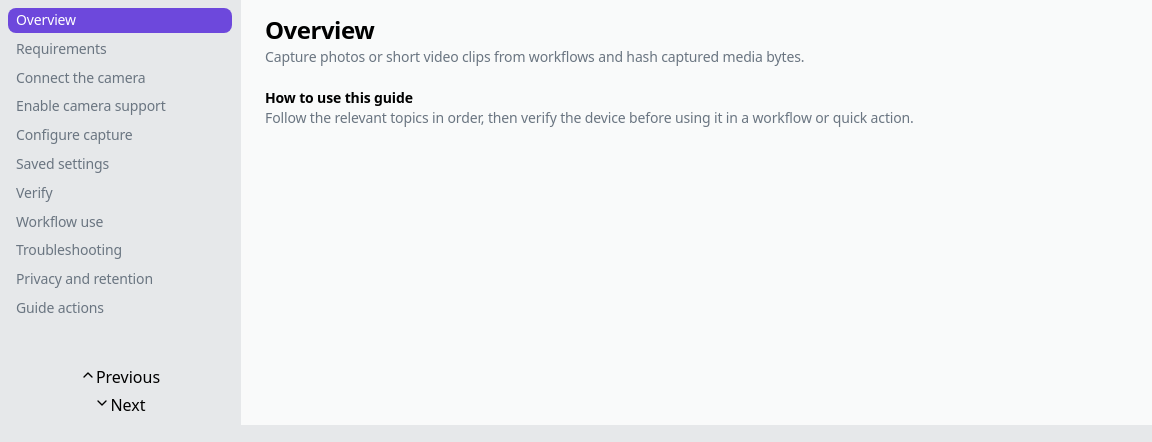
Test: StandardDeviceSetupGuide › shows photo warmup and format without video FPS in camera saved settings
Step 1. Click the button "Saved settings" → (120,164), box [8,152,232,177]
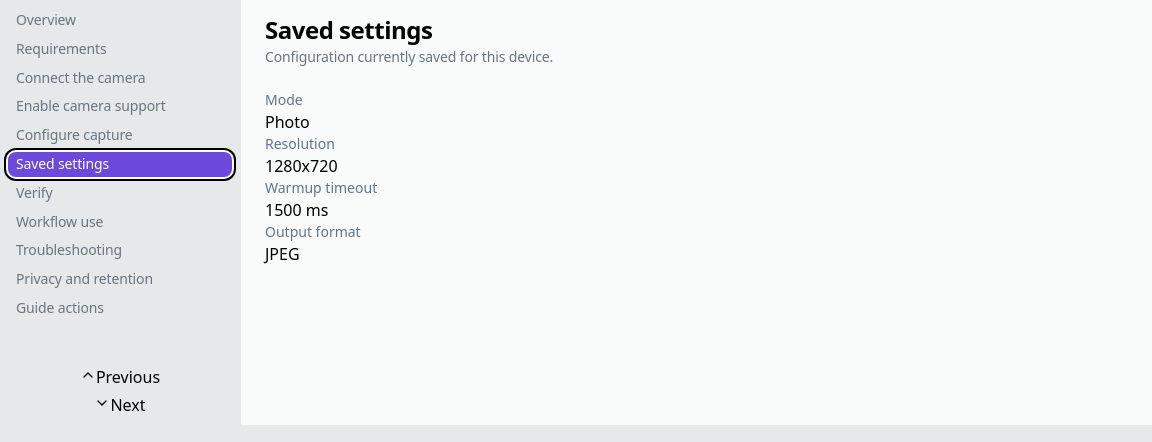
Result: the text "Warmup timeout" is shown at [265,178,377,198]
Result: the text "1500 ms" is shown at [265,199,328,221]
Result: the text "JPEG" is shown at [265,243,300,265]
